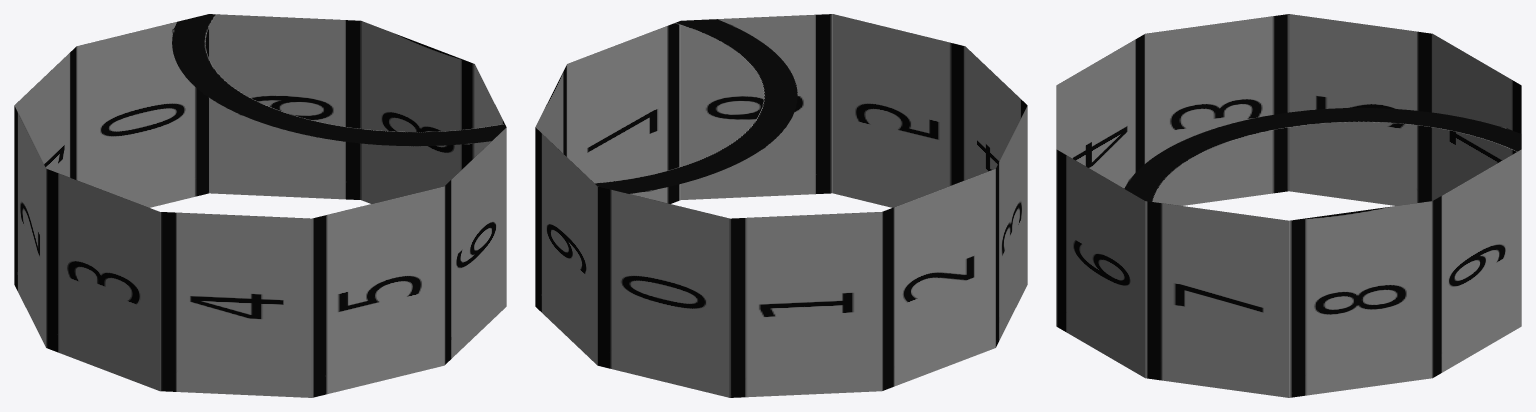
Rendered from dial.obj.
3 views of the same model, side by side, from view 1: azimuth 30°, elevation 25°; view 2: azimuth 150°, elevation 25°; view 3: azimuth 270°, elevation 25° (orthographic).
Visible parts, largest first — view 1: Cylinder; view 2: Cylinder; view 3: Cylinder.
Part boxes in pixels (left/top/right/bottom): Cylinder: left=14, top=14, right=506, bottom=397; Cylinder: left=535, top=14, right=1027, bottom=397; Cylinder: left=1056, top=14, right=1521, bottom=397.
Bounding box in the file's own units: 2 × 0.8 × 1.9.
Materials: 1 (1 with a texture image).
